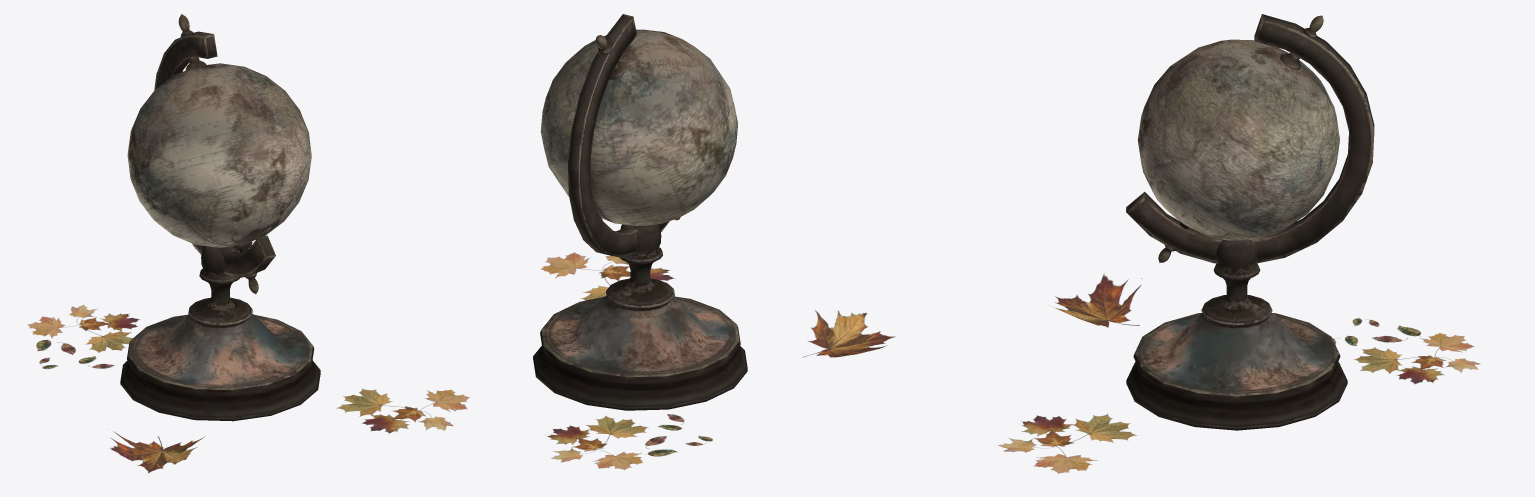
The model's file is coti_vintage_globe.glb.
3 views of the same model, side by side, from view 1: azimuth 30°, elevation 25°; view 2: azimuth 150°, elevation 25°; view 3: azimuth 270°, elevation 25° (orthographic). The views are drawn at different scales.
Visible parts, largest first — view 1: Object_2; view 2: Object_2; view 3: Object_2.
Boxes of the visible parts, x1,y1,x2,y2 form: Object_2: [27, 14, 469, 473]; Object_2: [533, 14, 895, 469]; Object_2: [998, 14, 1480, 473].
Size of the model in its own units: 0.5999 by 0.5 by 0.6826.
Materials: 2 (2 with a texture image).
